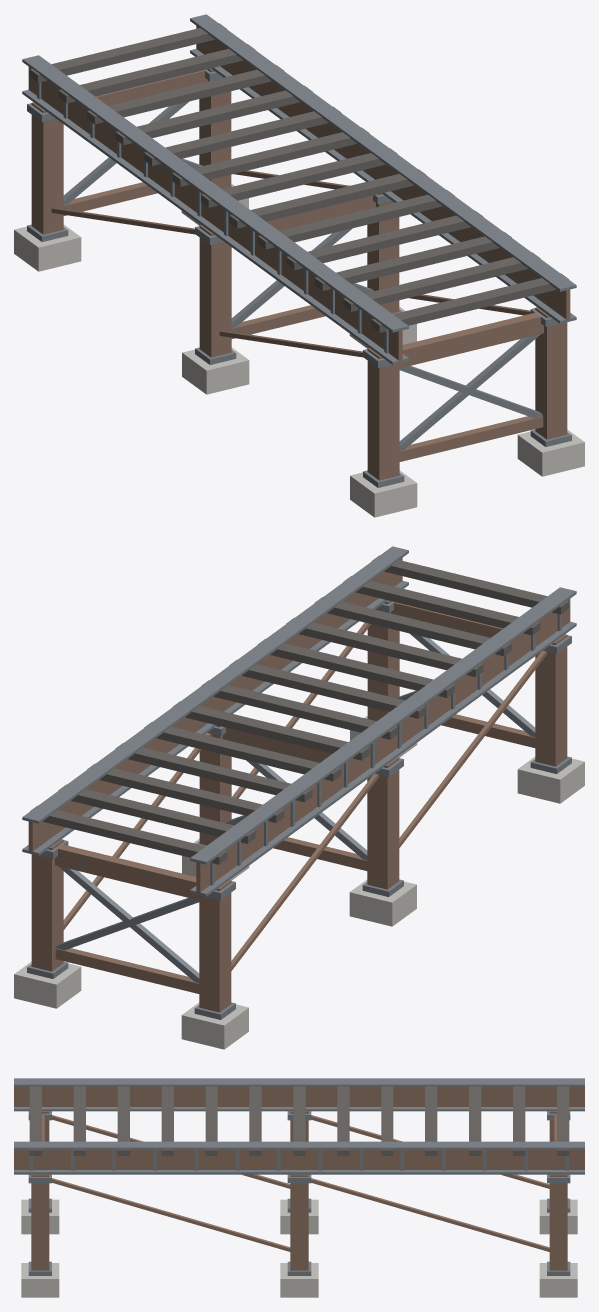
The model's file is dm_steeltrestle.glb.
The picture shows the model from 3 angles, top to bottom: view 1: azimuth 30°, elevation 25°; view 2: azimuth 150°, elevation 25°; view 3: azimuth 270°, elevation 25°; orthographic projection. The views are drawn at different scales.
Parts seen in each view (by area): view 1: dm_steeltrestle; view 2: dm_steeltrestle; view 3: dm_steeltrestle.
Part boxes in pixels (bbox=[...]): dm_steeltrestle: bbox=[14, 14, 584, 517]; dm_steeltrestle: bbox=[14, 546, 584, 1049]; dm_steeltrestle: bbox=[14, 1078, 584, 1297].
Size of the model in its own units: 6.4 by 5.46 by 19.5.
